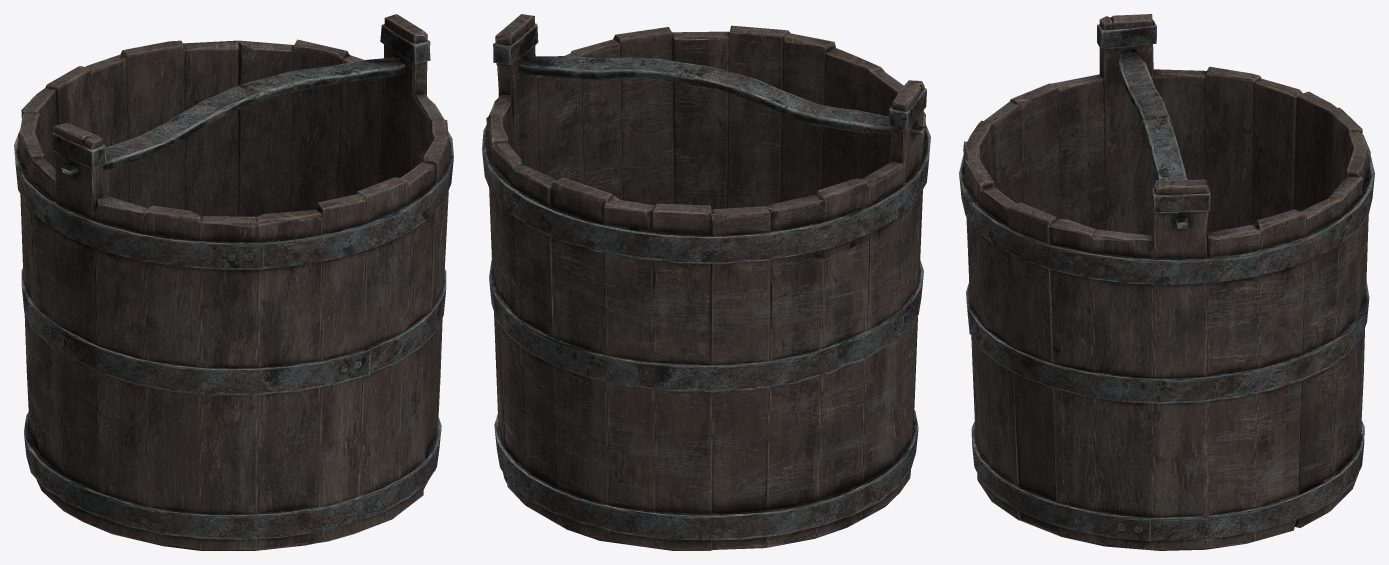
The model's file is SM_Bucket.fbx.
The picture shows the model from 3 angles, left to right: view 1: azimuth 30°, elevation 25°; view 2: azimuth 150°, elevation 25°; view 3: azimuth 270°, elevation 25°; orthographic projection. The views are drawn at different scales.
Parts seen in each view (by area): view 1: SM_Bucket_LOD0; view 2: SM_Bucket_LOD0; view 3: SM_Bucket_LOD0.
Part boxes in pixels (<box>): SM_Bucket_LOD0: <box>14,14,453,550</box>; SM_Bucket_LOD0: <box>482,14,930,550</box>; SM_Bucket_LOD0: <box>959,14,1374,550</box>.
Bounding box in the file's own units: 54.89 × 53.91 × 53.4.
